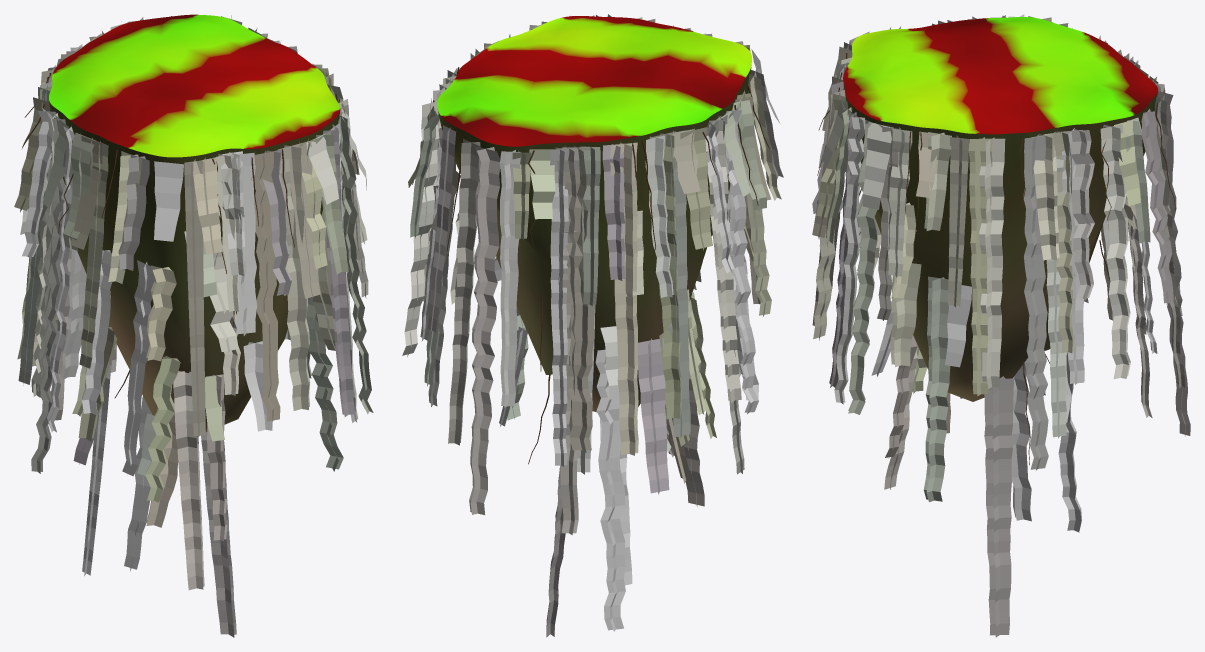
File: SM_H18_Floater03.fbx
3 renders of one model, left to right at view 1: azimuth 30°, elevation 25°; view 2: azimuth 150°, elevation 25°; view 3: azimuth 270°, elevation 25°, orthographic. The views are drawn at different scales.
Visible parts, largest first — view 1: SM_H18_Floater03_Ivy, SM_H18_Floater03; view 2: SM_H18_Floater03_Ivy, SM_H18_Floater03; view 3: SM_H18_Floater03_Ivy, SM_H18_Floater03.
Part boxes in pixels (bbox=[...]): SM_H18_Floater03_Ivy: bbox=[14, 15, 373, 637]; SM_H18_Floater03: bbox=[49, 14, 340, 432]; SM_H18_Floater03_Ivy: bbox=[402, 14, 783, 637]; SM_H18_Floater03: bbox=[437, 16, 751, 412]; SM_H18_Floater03_Ivy: bbox=[812, 14, 1190, 637]; SM_H18_Floater03: bbox=[843, 17, 1158, 401].
Bounding box in the file's own units: 24.33 × 44.39 × 27.65.
